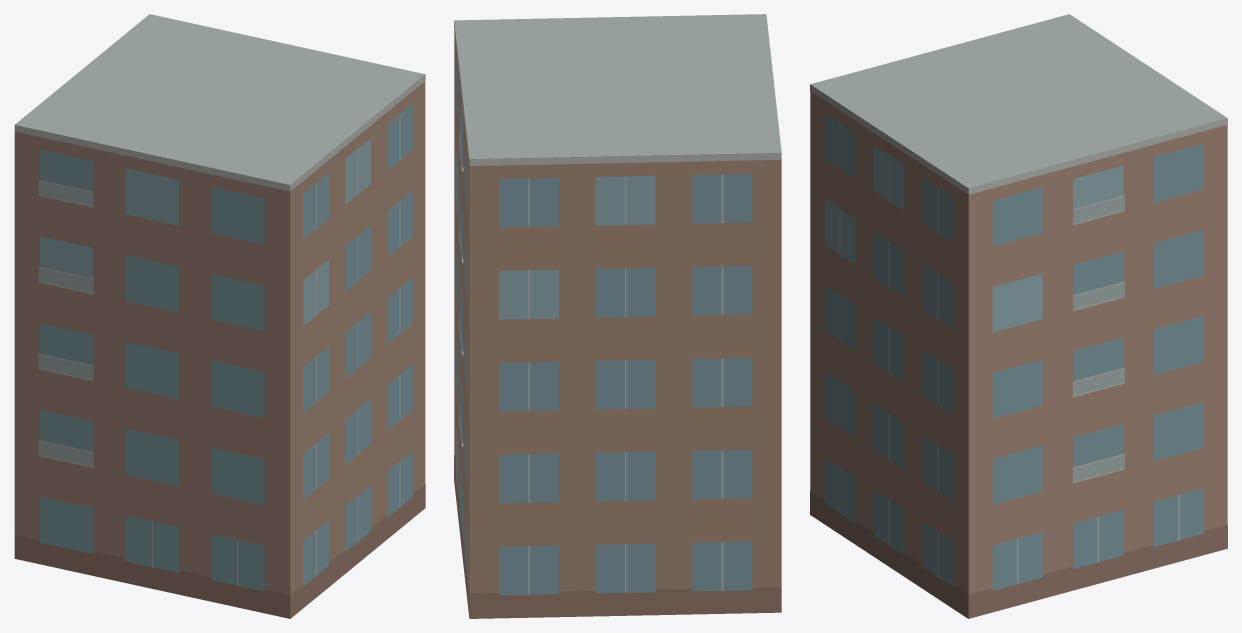
The model's file is survey-upis-32581456.glb.
3 renders of one model, left to right at view 1: azimuth 30°, elevation 25°; view 2: azimuth 150°, elevation 25°; view 3: azimuth 270°, elevation 25°, orthographic. The views are drawn at different scales.
Visible parts, largest first — view 1: survey-upis-32581456.tmp; view 2: survey-upis-32581456.tmp; view 3: survey-upis-32581456.tmp.
Boxes of the visible parts, bbox=[...] form: survey-upis-32581456.tmp: bbox=[14, 14, 425, 618]; survey-upis-32581456.tmp: bbox=[454, 14, 781, 618]; survey-upis-32581456.tmp: bbox=[810, 14, 1227, 618].
Bounding box in the file's own units: 13.97 × 16.08 × 14.14.
